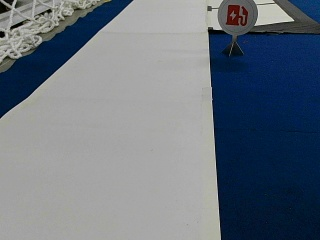battery: (217, 0, 258, 36)
